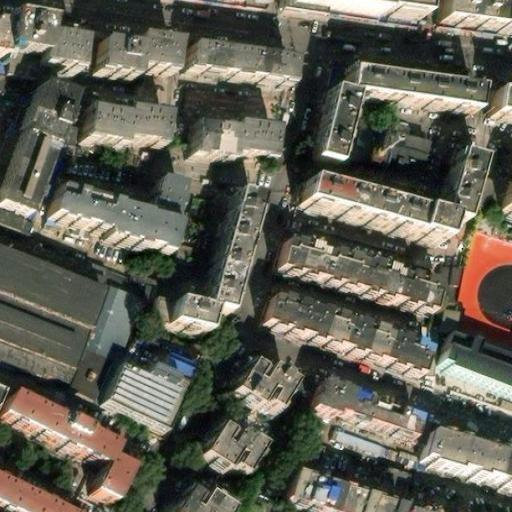building: (0, 286, 141, 400), (0, 393, 131, 503), (262, 294, 428, 373), (167, 198, 258, 340), (276, 245, 441, 317), (308, 188, 475, 246), (54, 188, 182, 254), (0, 113, 67, 220), (106, 358, 194, 434), (312, 385, 419, 445), (341, 62, 472, 102), (420, 438, 512, 492), (0, 14, 86, 68), (187, 36, 293, 79), (97, 32, 179, 86), (443, 336, 512, 395), (200, 428, 266, 479), (235, 366, 298, 416), (293, 482, 398, 512), (334, 431, 415, 469), (86, 108, 166, 141), (188, 123, 273, 152), (309, 81, 348, 142), (286, 0, 421, 17), (380, 129, 433, 169), (149, 180, 192, 223), (27, 81, 70, 118), (174, 488, 233, 512), (481, 88, 512, 120), (496, 180, 511, 220)
